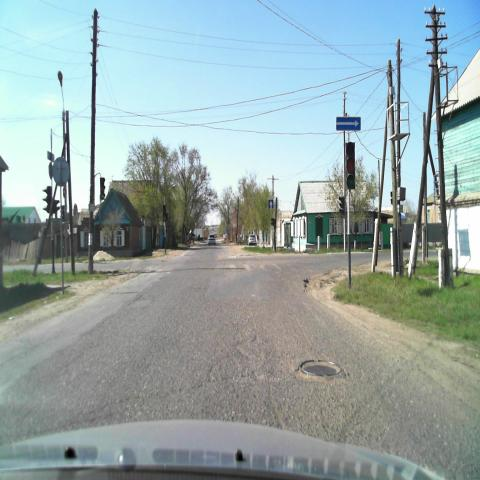5_7_1: (336, 115, 361, 132)
